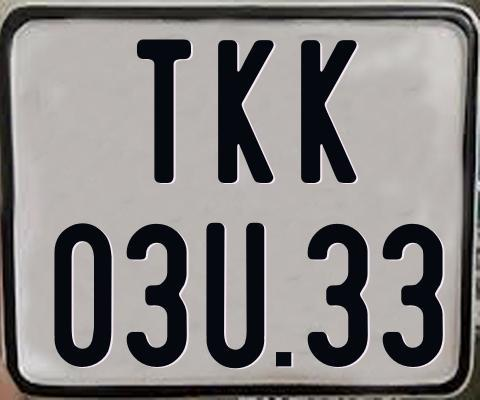0: (53, 223, 112, 371)
3: (124, 222, 190, 365), (306, 222, 370, 369), (380, 223, 442, 372)
K: (299, 37, 355, 184), (218, 40, 274, 185)
T: (134, 38, 190, 185)
U: (206, 223, 266, 374)
